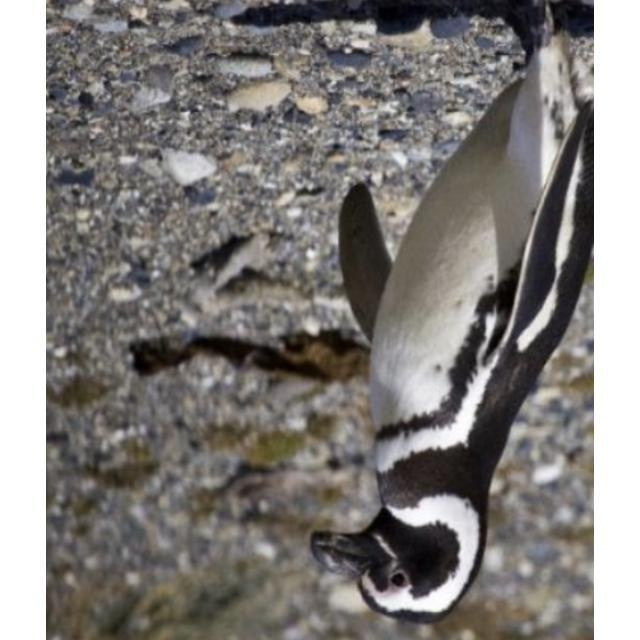penguin: (309, 3, 590, 624)
